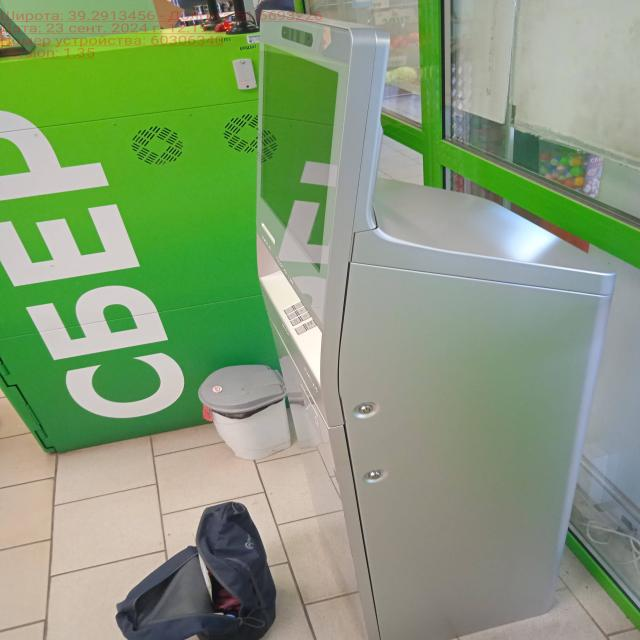bank: (256, 14, 615, 640), (0, 29, 326, 453)
